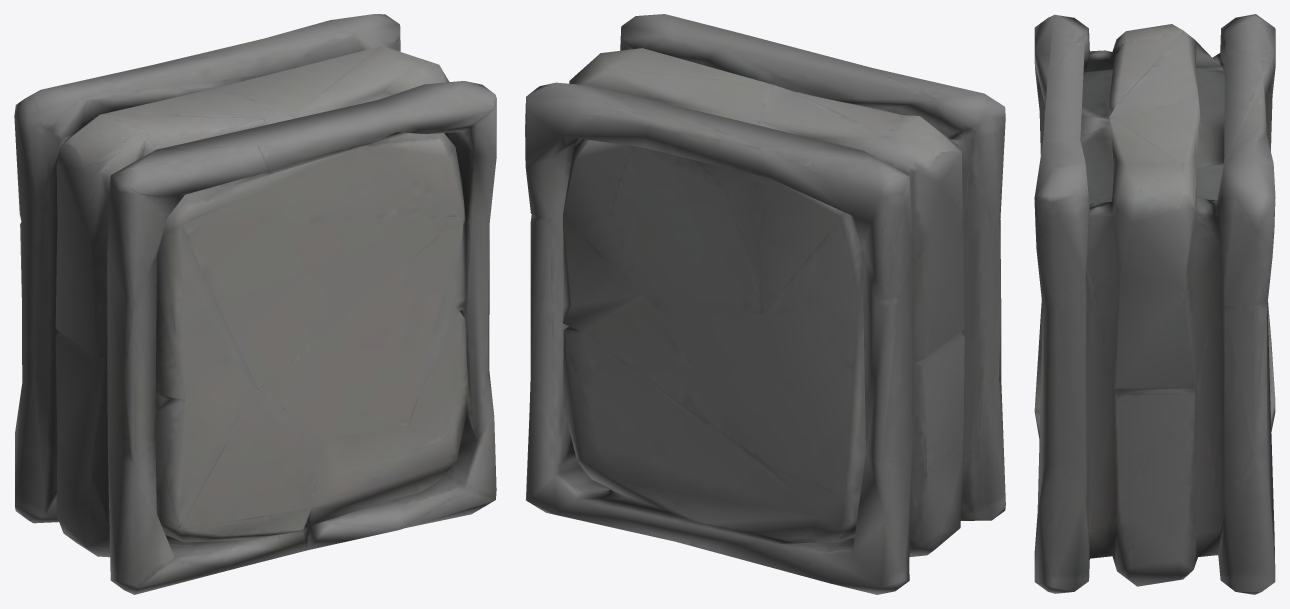
File: block_stone.glb
The picture shows the model from 3 angles, left to right: view 1: azimuth 30°, elevation 25°; view 2: azimuth 150°, elevation 25°; view 3: azimuth 270°, elevation 25°; orthographic projection. The views are drawn at different scales.
Size of the model in its own units: 1.72 by 1.86 by 0.9675.
Materials: 1 (1 with a texture image).
